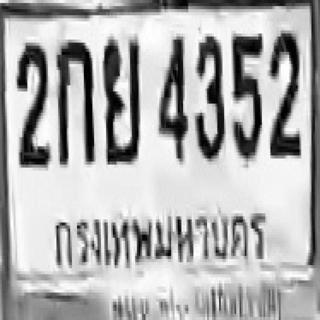A01: (55, 36, 92, 162)
A34: (101, 34, 139, 162)
N02: (15, 39, 48, 164), (268, 29, 299, 154)
N03: (193, 34, 224, 158)
N04: (158, 34, 186, 158)
N05: (231, 32, 260, 157)
P04: (51, 202, 274, 274)
